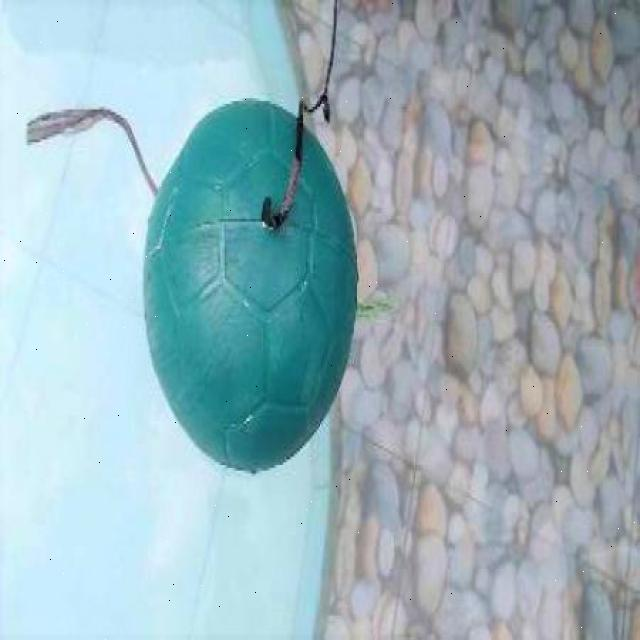buoy: (141, 96, 357, 473)
